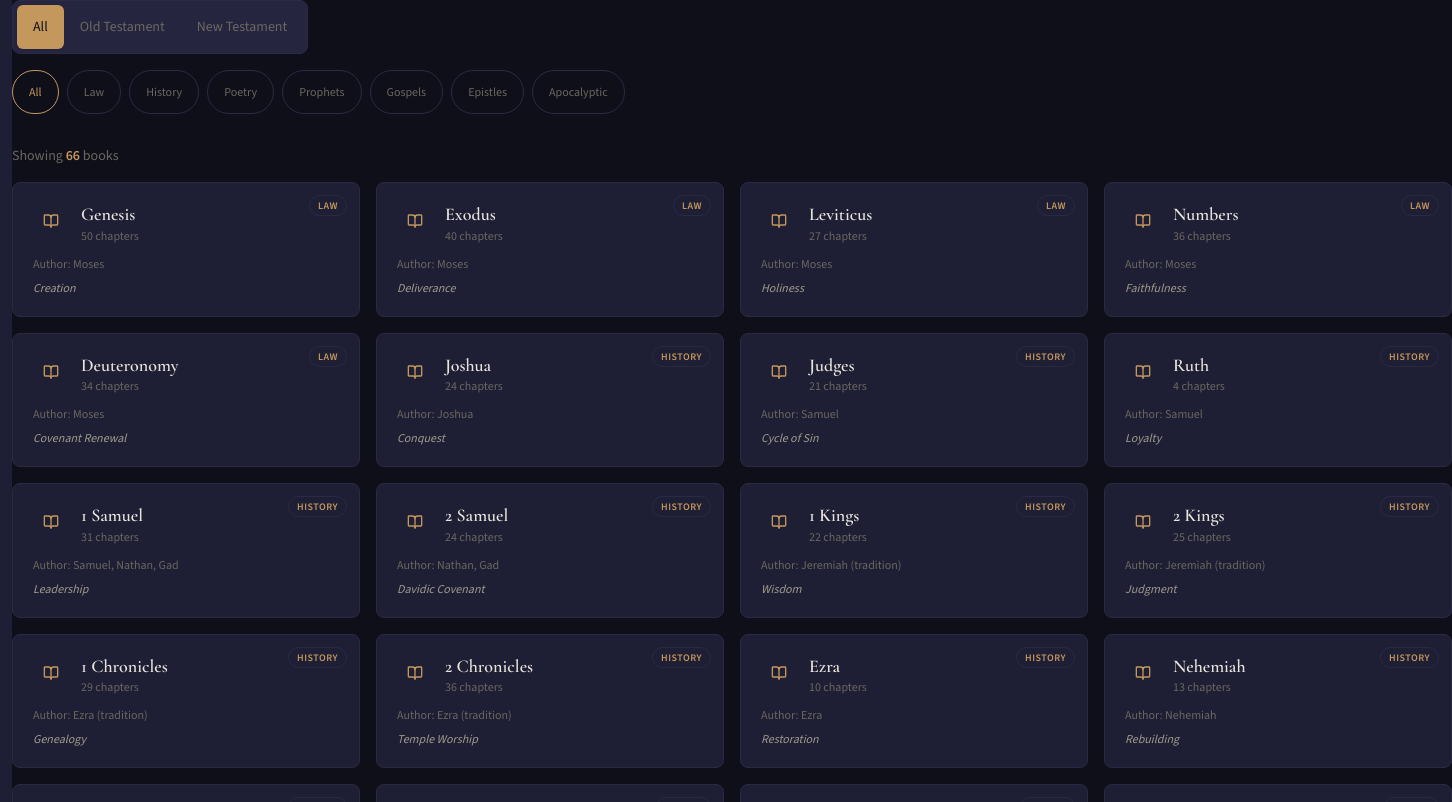
Scenario: BookGrid › combines testament and category filters
This screenshot has width=1452, height=802.
// Select NT + Epistles → should show only NT epistles
Click the radio button "New Testament": (242, 27) [181, 5, 303, 49]
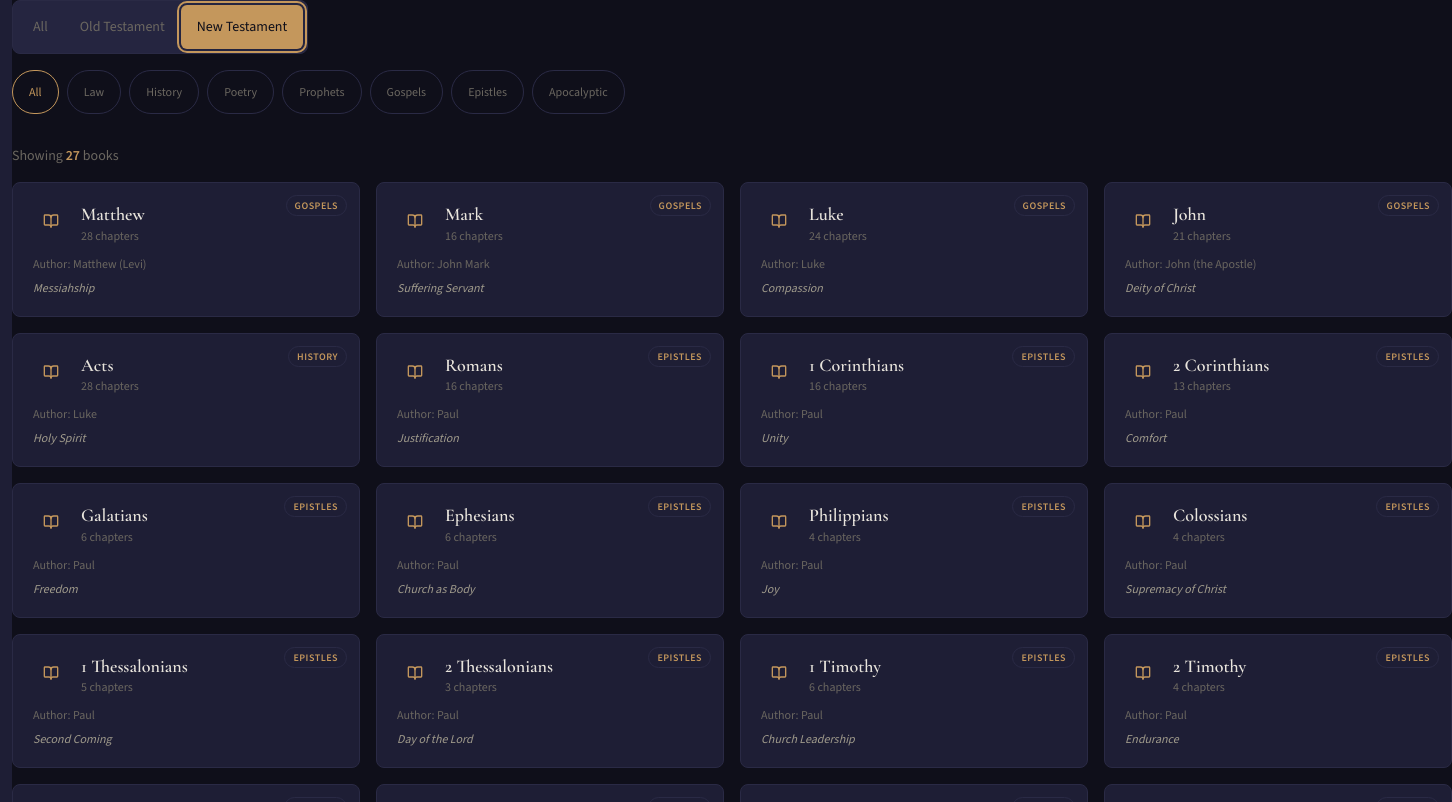
Click the radio button "Epistles": (488, 92) [451, 70, 524, 114]
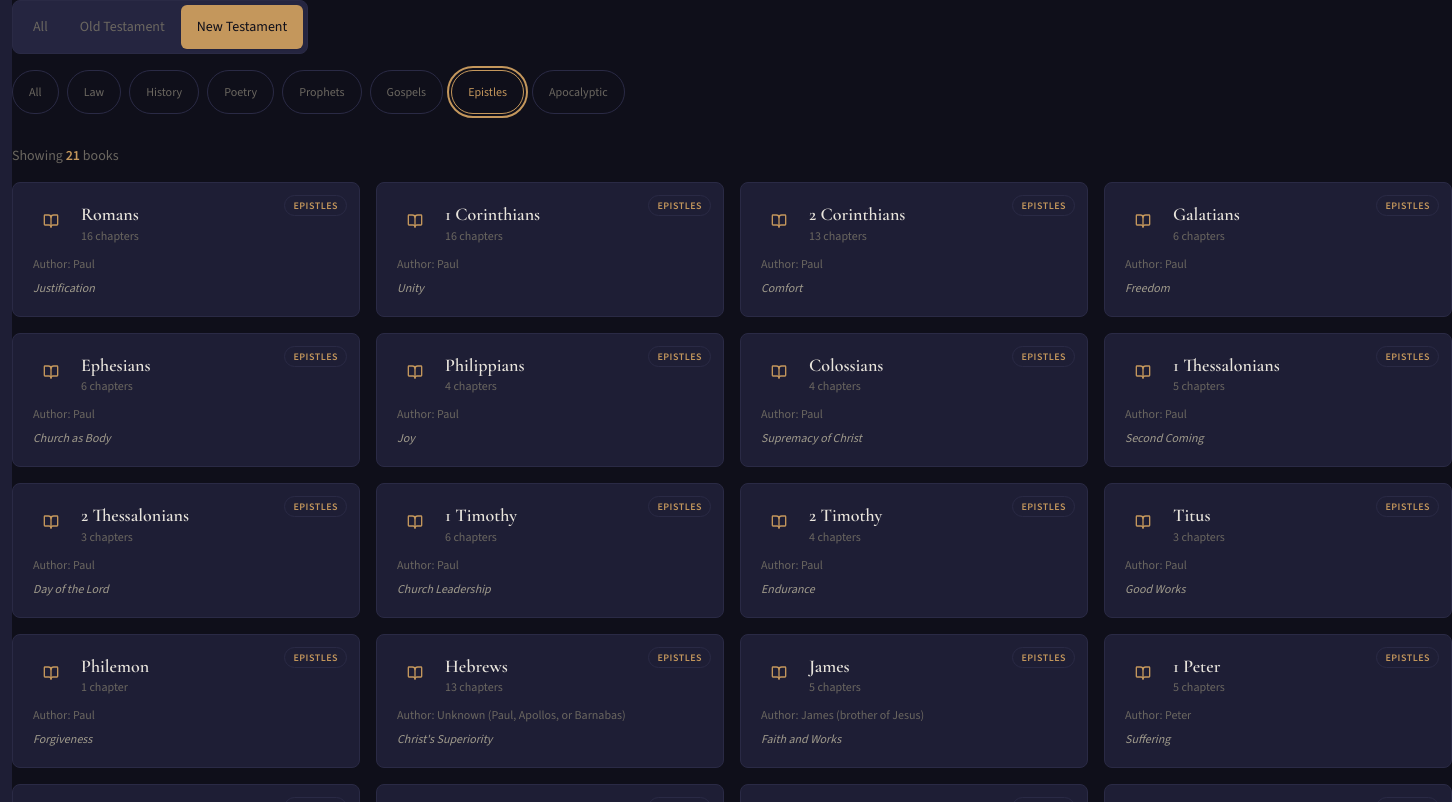
Expected: the heading "Romans" is shown, [81, 203, 139, 226]
Result: the link "Matthew" is gone
